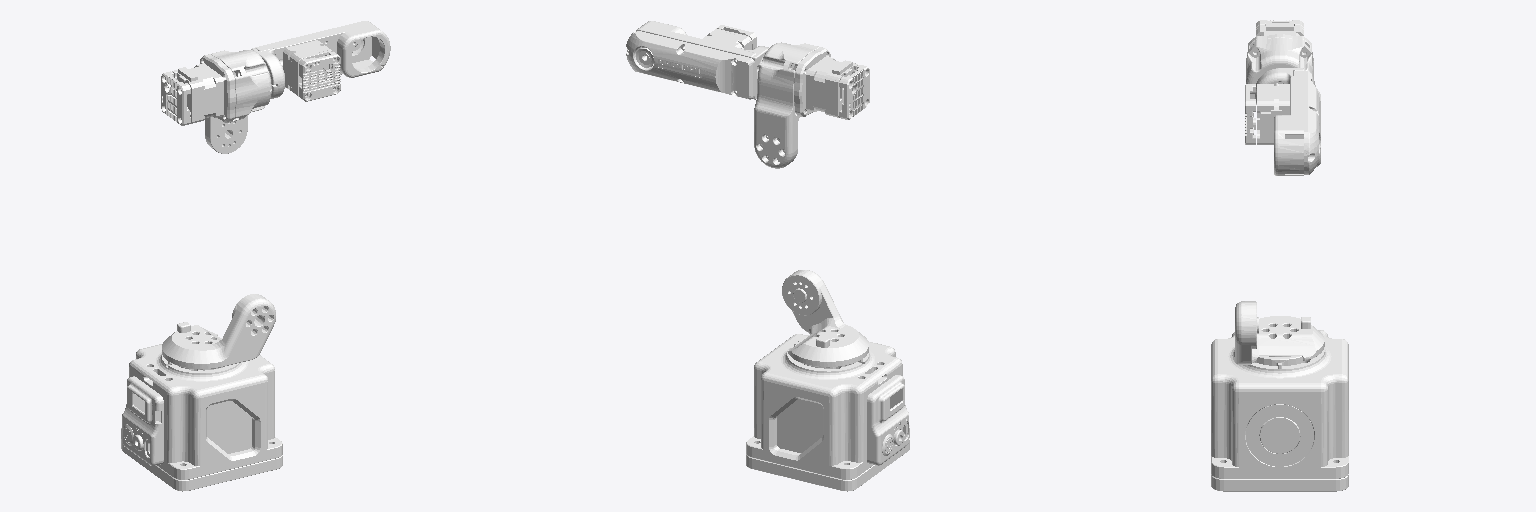
robot.urdf — robot:
<?xml version="1.0" encoding="utf-8"?>
<!-- This URDF was automatically created by SolidWorks to URDF Exporter! Originally created by [author] ([email redacted]) 
     Commit Version: 1.6.0-4-g7f85cfe  Build Version: 1.6.7995.38578
     For more information, please see http://wiki.ros.org/sw_urdf_exporter -->
<robot
  xmlns:mujoco="http://www.mujoco.org/2009/mujoco">

  <!-- MuJoCo特定的编译选项 -->
  <mujoco>
    <compiler 
    meshdir="../meshes/" 
    balanceinertia="true" 
    discardvisual="false" />
  </mujoco>

  <link name="base_footprint">
  </link>
  
  <link
    name="base_link">
    <inertial>
      <origin
        xyz="0.0011926 0.0001479 0.044835"
        rpy="0 0 0" />
      <mass
        value="0.34104" />
      <inertia
        ixx="0.00051858"
        ixy="-1.4374E-09"
        ixz="6.0504E-06"
        iyy="0.00047714"
        iyz="-9.6534E-08"
        izz="0.00065332" />
    </inertial>
    <visual>
      <origin
        xyz="0 0 0"
        rpy="0 0 0" />
      <geometry>
        <mesh
          filename="package://dummy_URDF/meshes/base_link.STL" />
      </geometry>
      <material
        name="">
        <color
          rgba="1 1 1 1" />
      </material>
    </visual>
    <collision>
      <origin
        xyz="0 0 0"
        rpy="0 0 0" />
      <geometry>
        <mesh
          filename="package://dummy_URDF/meshes/base_link.STL" />
      </geometry>
    </collision>
  </link>
  <joint
    name="base_joint"
    type="fixed">
    <origin
      xyz="0 0 0"
      rpy="0 0 0" />
    <parent
      link="base_footprint" />
    <child
      link="base_link" />
    <axis
      xyz="0 0 0" />
  </joint>
  <link
    name="j1_link">
    <inertial>
      <origin
        xyz="-0.0096852704433571 0.00773416760907863 0.00933353468219462"
        rpy="0 0 0" />
      <mass
        value="0.0518812385983544" />
      <inertia
        ixx="3.04004057596199E-05"
        ixy="5.78570894194514E-06"
        ixz="1.03265743912463E-05"
        iyy="3.73545862740823E-05"
        iyz="-9.02999045839234E-06"
        izz="2.46782754237967E-05" />
    </inertial>
    <visual>
      <origin
        xyz="0 0 0"
        rpy="0 0 0" />
      <geometry>
        <mesh
          filename="package://dummy_URDF/meshes/j1_link.STL" />
      </geometry>
      <material
        name="">
        <color
          rgba="1 1 1 1" />
      </material>
    </visual>
    <collision>
      <origin
        xyz="0 0 0"
        rpy="0 0 0" />
      <geometry>
        <mesh
          filename="package://dummy_URDF/meshes/j1_link.STL" />
      </geometry>
    </collision>
  </link>
  <joint
    name="j1_joint"
    type="revolute">
    <origin
      xyz="-0.00023797 0 0.0985"
      rpy="1.5708 0 1.5708" />
    <parent
      link="base_link" />
    <child
      link="j1_link" />
    <axis
      xyz="0 -1 0" />
    <limit
      lower="-2.96706"
      upper="2.96706"
      effort="2"
      velocity="5" />
  </joint>
  <link
    name="j2_link">
    <inertial>
      <origin
        xyz="0.00406715334841035 0.0721812501601242 4.63611531777508E-05"
        rpy="0 0 0" />
      <mass
        value="0.192145622655489" />
      <inertia
        ixx="5.4661069208782E-05"
        ixy="-7.49215195603879E-09"
        ixz="-9.48492403619831E-11"
        iyy="3.22427427713383E-05"
        iyz="-6.25897067233788E-20"
        izz="3.26352599218288E-05" />
    </inertial>
    <visual>
      <origin
        xyz="0 0 0"
        rpy="0 0 0" />
      <geometry>
        <mesh
          filename="package://dummy_URDF/meshes/j2_link.STL" />
      </geometry>
      <material
        name="">
        <color
          rgba="1 1 1 1" />
      </material>
    </visual>
    <collision>
      <origin
        xyz="0 0 0"
        rpy="0 0 0" />
      <geometry>
        <mesh
          filename="package://dummy_URDF/meshes/j2_link.STL" />
      </geometry>
    </collision>
  </link>
  <joint
    name="j2_joint"
    type="revolute">
    <origin
      xyz="-0.00525 0.028 0.035"
      rpy="0 0 0" />
    <parent
      link="j1_link" />
    <child
      link="j2_link" />
    <axis
      xyz="-1 0 0" />
    <limit
      lower="-1.570796"
      upper="1.2741"
      effort="2"
      velocity="5" />
  </joint>
  <link
    name="j3_link">
    <inertial>
      <origin
        xyz="5.13685873663183E-05 0.0432308619332324 -0.0191613785501855"
        rpy="0 0 0" />
      <mass
        value="0.092352917369277" />
      <inertia
        ixx="3.76193228527373E-05"
        ixy="9.56544488335186E-06"
        ixz="3.45782409947452E-07"
        iyy="2.22591680391567E-05"
        iyz="-6.51562166920665E-07"
        izz="5.05169789529808E-05" />
    </inertial>
    <visual>
      <origin
        xyz="0 0 0"
        rpy="0 0 0" />
      <geometry>
        <mesh
          filename="package://dummy_URDF/meshes/j3_link.STL" />
      </geometry>
      <material
        name="">
        <color
          rgba="1 1 1 1" />
      </material>
    </visual>
    <collision>
      <origin
        xyz="0 0 0"
        rpy="0 0 0" />
      <geometry>
        <mesh
          filename="package://dummy_URDF/meshes/j3_link.STL" />
      </geometry>
    </collision>
  </link>
  <joint
    name="j3_joint"
    type="revolute">
    <origin
      xyz="0.0105 0.146 0"
      rpy="0 0 0" />
    <parent
      link="j2_link" />
    <child
      link="j3_link" />
    <axis
      xyz="1 0 0" />
    <limit
      lower="-1.570796"
      upper="0.610865"
      effort="2"
      velocity="5" />
  </joint>
  <link
    name="j4_link">
    <inertial>
      <origin
        xyz="0.00573418303908657 2.69644940119607E-05 0.091341333945491"
        rpy="0 0 0" />
      <mass
        value="0.0949522928530115" />
      <inertia
        ixx="6.72118316352029E-05"
        ixy="-2.12803491617814E-10"
        ixz="2.66505050494264E-06"
        iyy="5.86307118283556E-05"
        iyz="-8.52759814124098E-09"
        izz="1.3253579486604E-05" />
    </inertial>
    <visual>
      <origin
        xyz="0 0 0"
        rpy="0 0 0" />
      <geometry>
        <mesh
          filename="package://dummy_URDF/meshes/j4_link.STL" />
      </geometry>
      <material
        name="">
        <color
          rgba="1 1 1 1" />
      </material>
    </visual>
    <collision>
      <origin
        xyz="0 0 0"
        rpy="0 0 0" />
      <geometry>
        <mesh
          filename="package://dummy_URDF/meshes/j4_link.STL" />
      </geometry>
    </collision>
  </link>
  <joint
    name="j4_joint"
    type="continuous">
    <origin
      xyz="-0.00525 0.052 -0.0245"
      rpy="0 0 0" />
    <parent
      link="j3_link" />
    <child
      link="j4_link" />
    <axis
      xyz="0 0 1" />
  </joint>
  <link
    name="j5_link">
    <inertial>
      <origin
        xyz="0.00714841456502635 5.05127627496438E-05 0.028927862664147"
        rpy="0 0 0" />
      <mass
        value="0.0496707082745354" />
      <inertia
        ixx="5.91360632024304E-06"
        ixy="-5.75928671599532E-09"
        ixz="2.10051461143497E-09"
        iyy="5.33306905212625E-06"
        iyz="-6.49688543141953E-09"
        izz="8.38808311224877E-06" />
    </inertial>
    <visual>
      <origin
        xyz="0 0 0"
        rpy="0 0 0" />
      <geometry>
        <mesh
          filename="package://dummy_URDF/meshes/j5_link.STL" />
      </geometry>
      <material
        name="">
        <color
          rgba="1 1 1 1" />
      </material>
    </visual>
    <collision>
      <origin
        xyz="0 0 0"
        rpy="0 0 0" />
      <geometry>
        <mesh
          filename="package://dummy_URDF/meshes/j5_link.STL" />
      </geometry>
    </collision>
  </link>
  <joint
    name="j5_joint"
    type="revolute">
    <origin
      xyz="-0.008575 0 0.1415"
      rpy="0 0 0" />
    <parent
      link="j4_link" />
    <child
      link="j5_link" />
    <axis
      xyz="-1 0 0" />
    <limit
      lower="-2.094395"
      upper="2.094395"
      effort="2"
      velocity="5" />
  </joint>
</robot>

--- Render facts (derived) ---
3 views of the same robot in one strip: view 1: azimuth 30°, elevation 25°; view 2: azimuth 150°, elevation 25°; view 3: azimuth 270°, elevation 25° (orthographic).
Model robot with 7 links and 6 joints (4 revolute, 1 continuous, 1 fixed), rooted at base_footprint, posed every joint at zero.
Visible links, largest first — view 1: base_link, j3_link, j4_link, j1_link; view 2: base_link, j3_link, j4_link, j1_link; view 3: base_link, j4_link, j1_link, j3_link.
Boxes of the visible links, left/top/right/bottom form: base_link: left=121, top=338, right=282, bottom=491; j3_link: left=161, top=50, right=271, bottom=153; j4_link: left=251, top=21, right=390, bottom=101; j1_link: left=162, top=294, right=275, bottom=369; base_link: left=746, top=334, right=909, bottom=491; j3_link: left=754, top=42, right=869, bottom=168; j4_link: left=626, top=21, right=768, bottom=99; j1_link: left=782, top=270, right=868, bottom=367; base_link: left=1211, top=330, right=1348, bottom=491; j4_link: left=1245, top=68, right=1320, bottom=175; j1_link: left=1235, top=301, right=1324, bottom=364; j3_link: left=1246, top=20, right=1320, bottom=166.
Size in the robot's own frame: 0.2378 by 0.1 by 0.3495 metres.
4 mesh visuals loaded from 6 distinct referenced files (4 binary STL); not drawn: 2 (reference not matched to a file when rendering).
